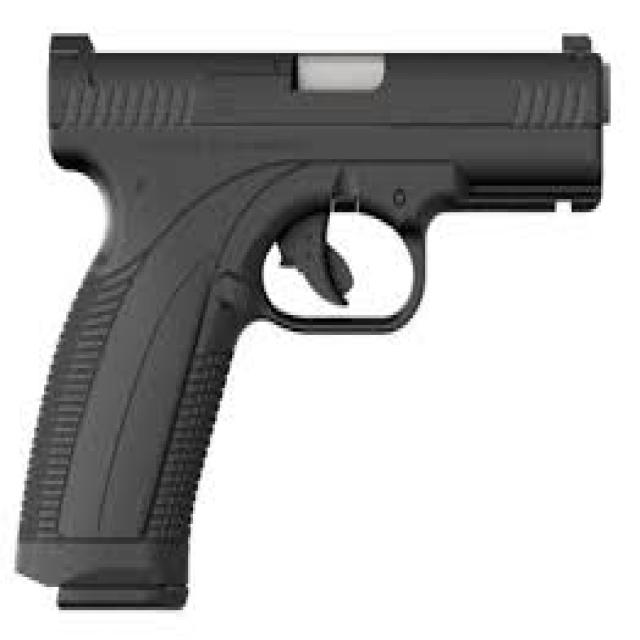Gun: (35, 12, 613, 610)
